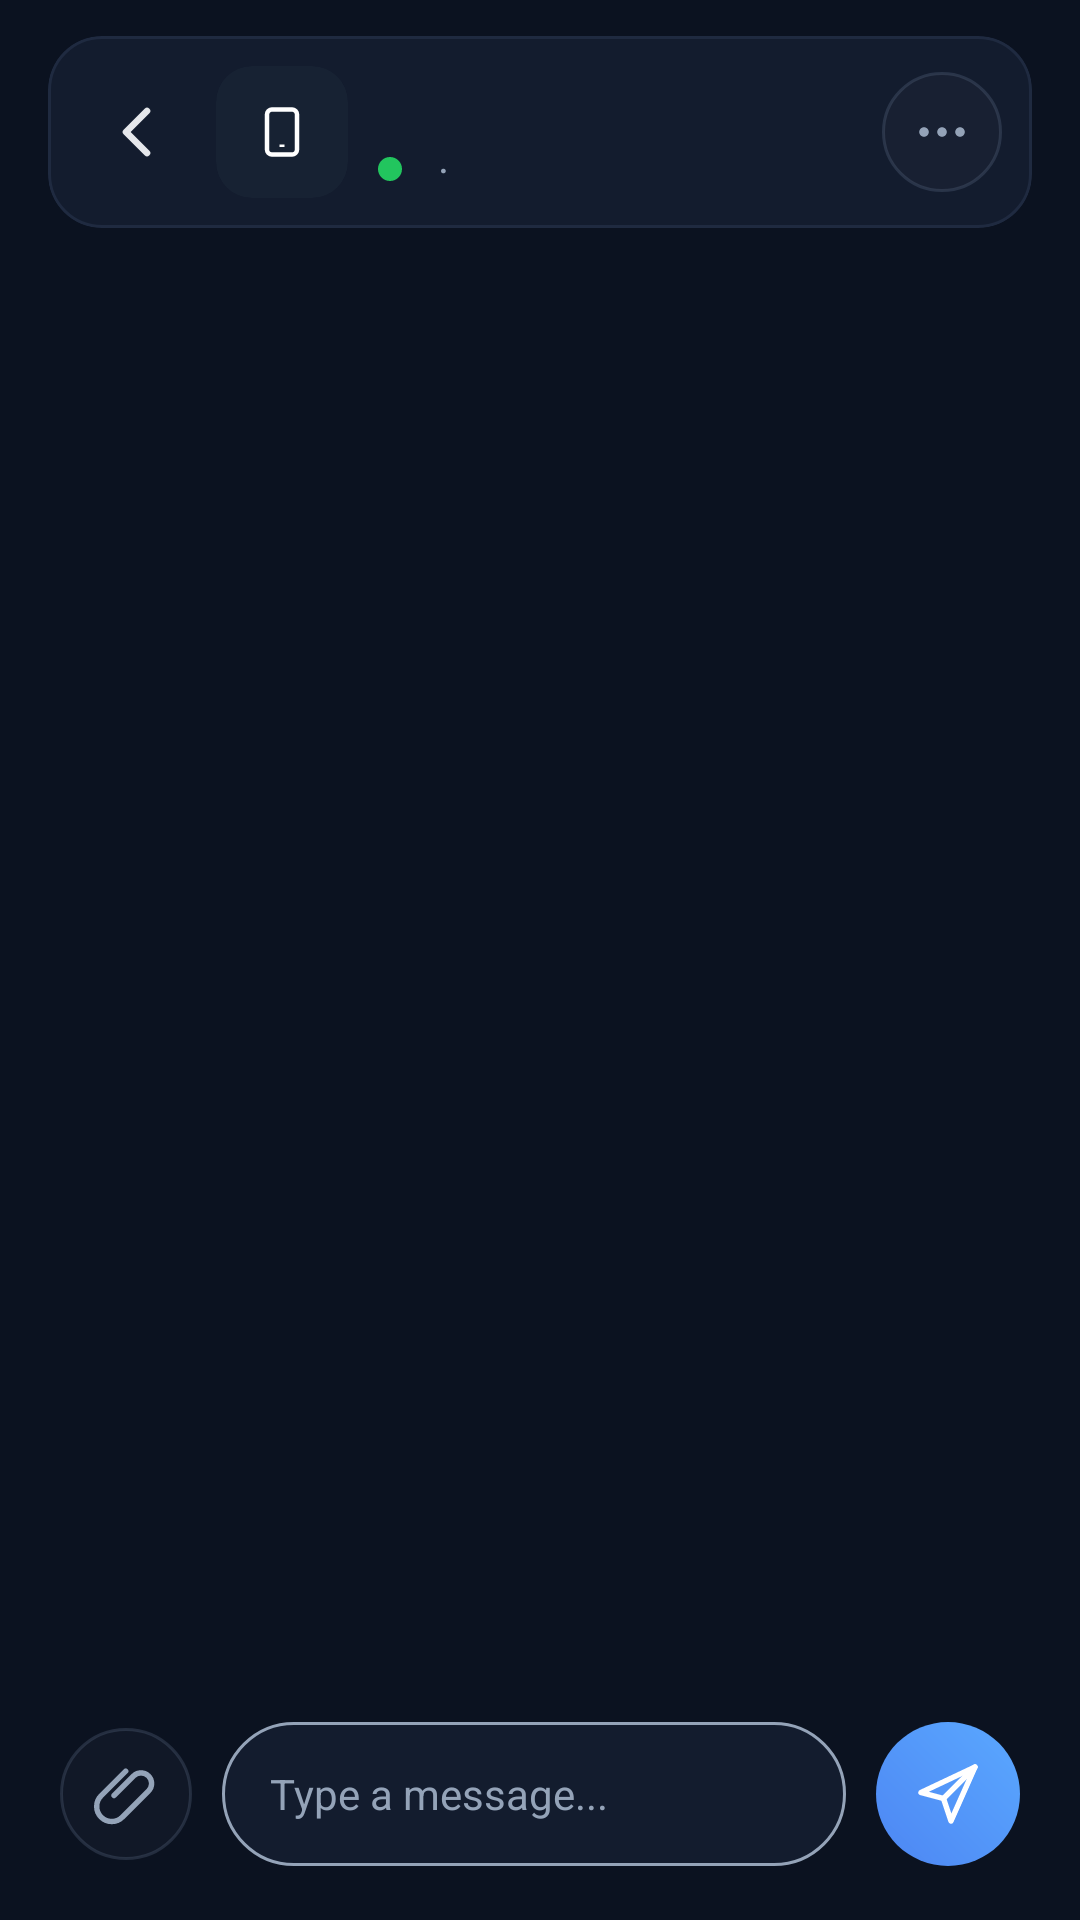

Where icons sit on this 1080*1920 app screen, as [x1=x1, y1=y1, x2=x2, y2=y2]:
Attach: [x1=60, y1=1728, x2=192, y2=1860]
Back: [x1=122, y1=107, x2=151, y2=157]
More: [x1=882, y1=72, x2=1002, y2=192]
Send message: [x1=876, y1=1722, x2=1020, y2=1866]
